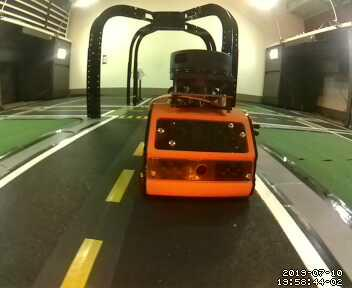pheeno: (142, 46, 257, 207)
